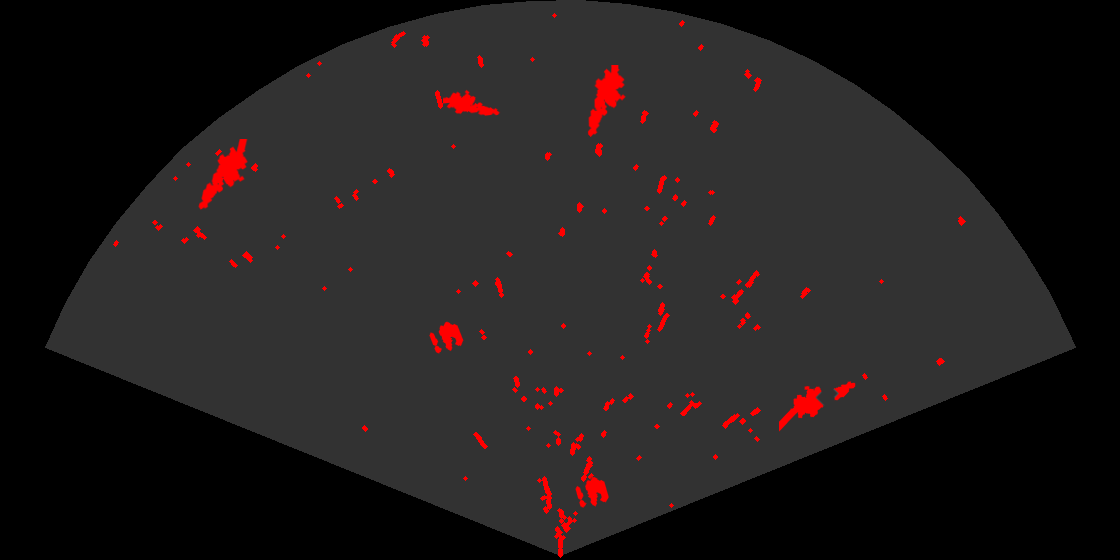ball: (428, 320, 465, 355), (574, 475, 610, 509)
frogman: (779, 380, 857, 433), (197, 139, 249, 211), (586, 65, 627, 137), (443, 88, 501, 117)
